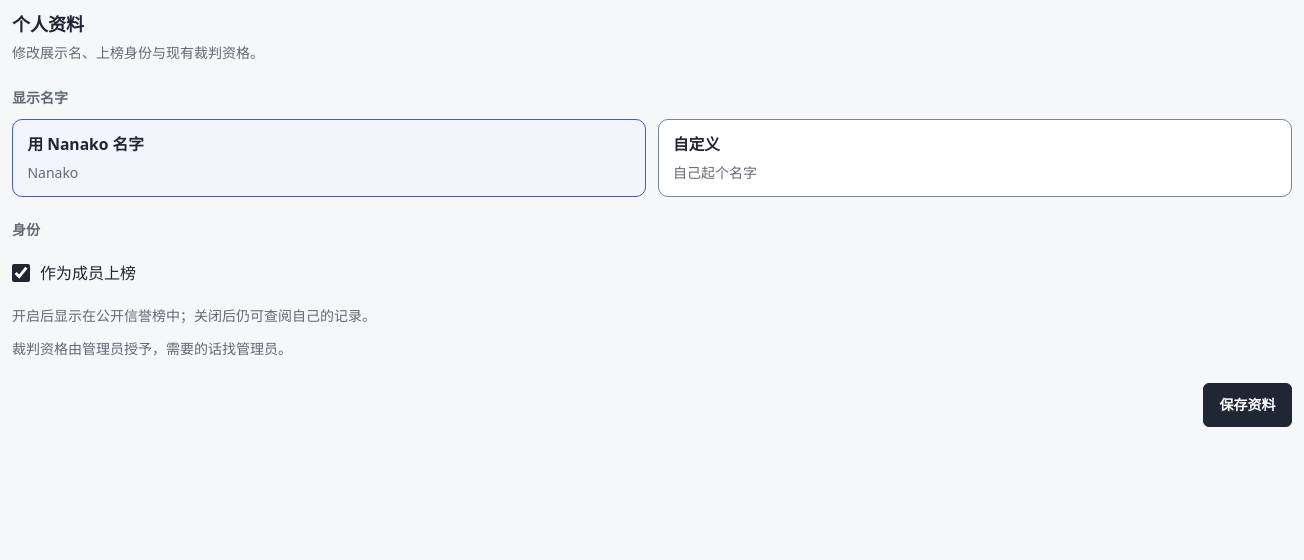
it: IdentityForm dirty state and drafts › preserves ordinary input and dirty state after a failed save
Click the radio button labelled "自定义 自己起个名字": click(696, 144) [658,119,1292,197]
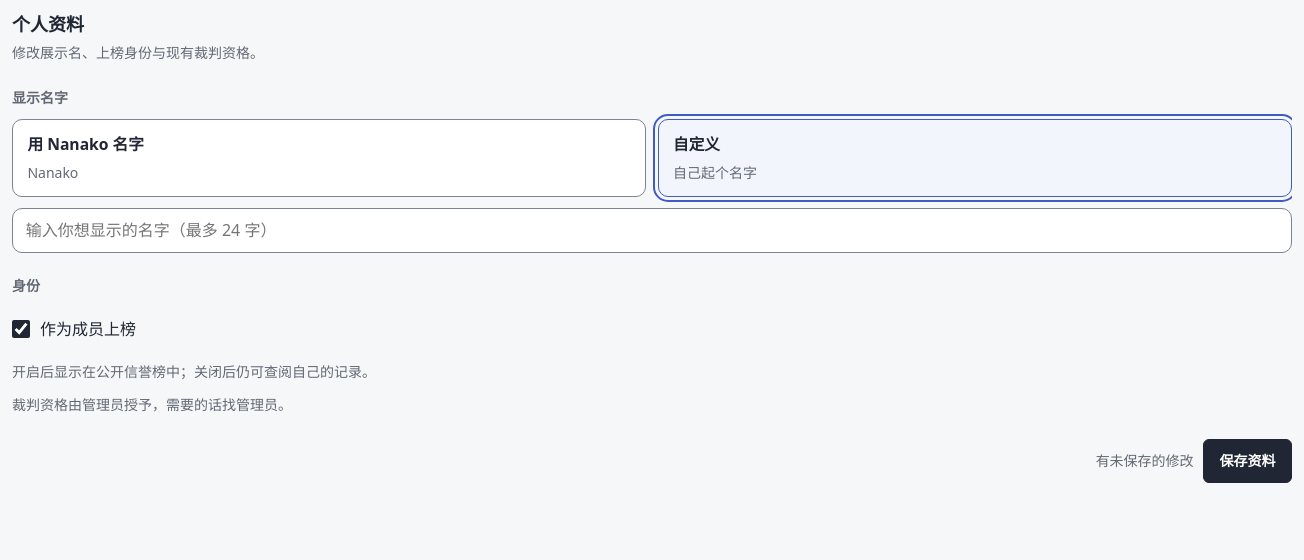
In the field named "自定义显示名字": (652, 230) [12,208,1292,253], type "尚未保存"
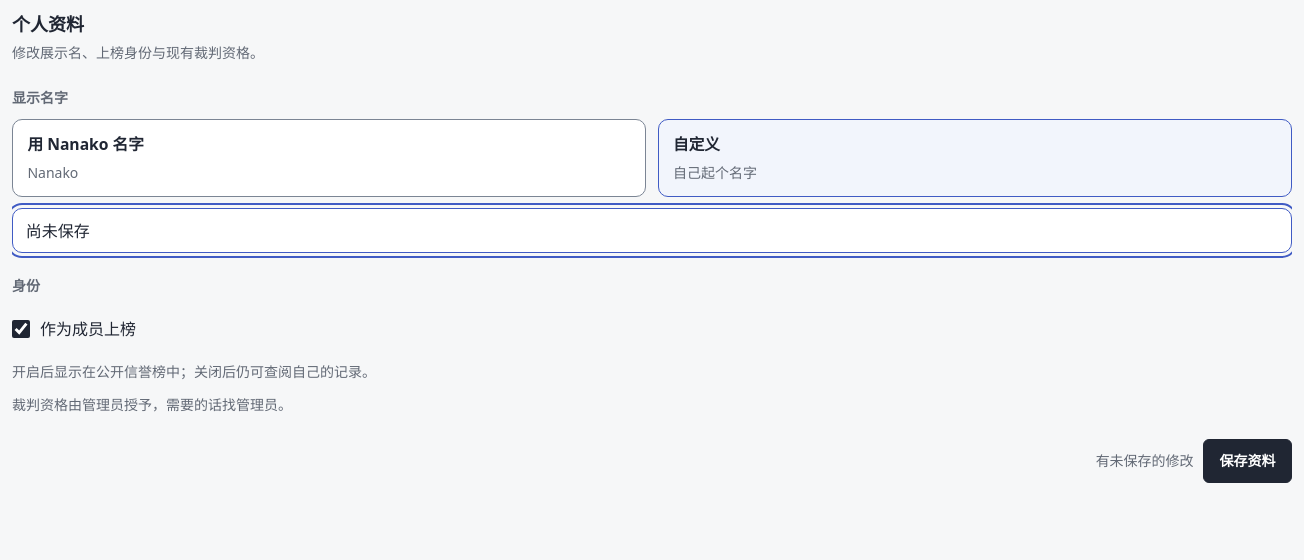
Click the button "保存资料": click(1248, 461) [1203,439,1292,483]
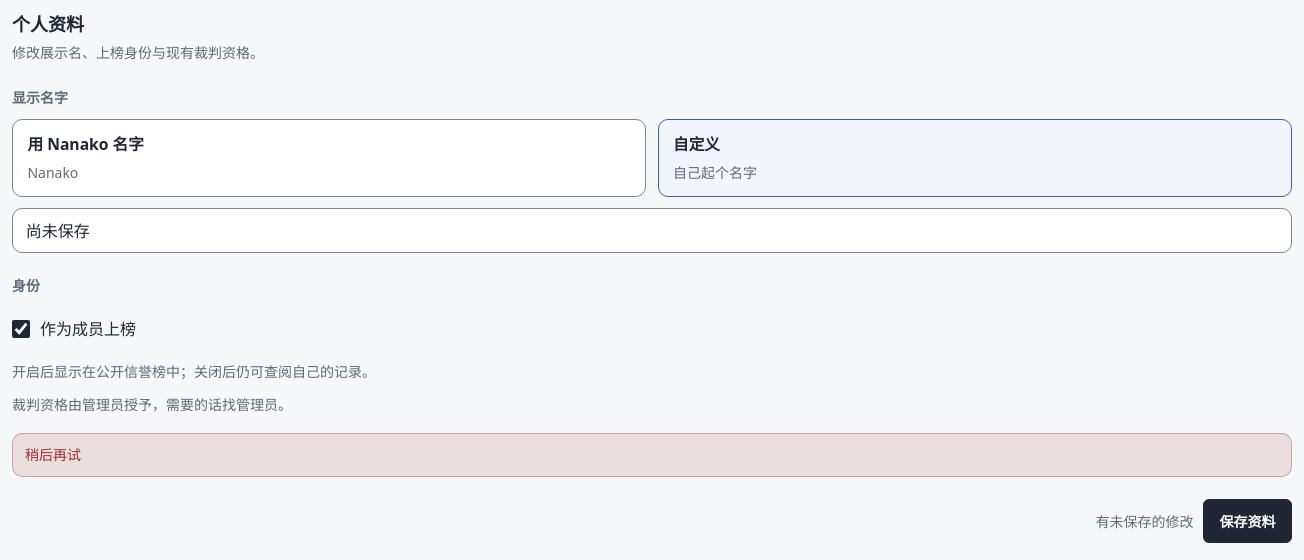
Expected: the button "保存资料" is enabled, [1203,499,1292,543]
Now the message "稍后再试" is shown, box [12,432,1292,477]
